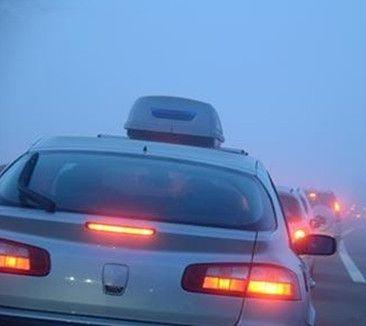car: (1, 93, 338, 321), (233, 186, 322, 290), (263, 184, 327, 281)
